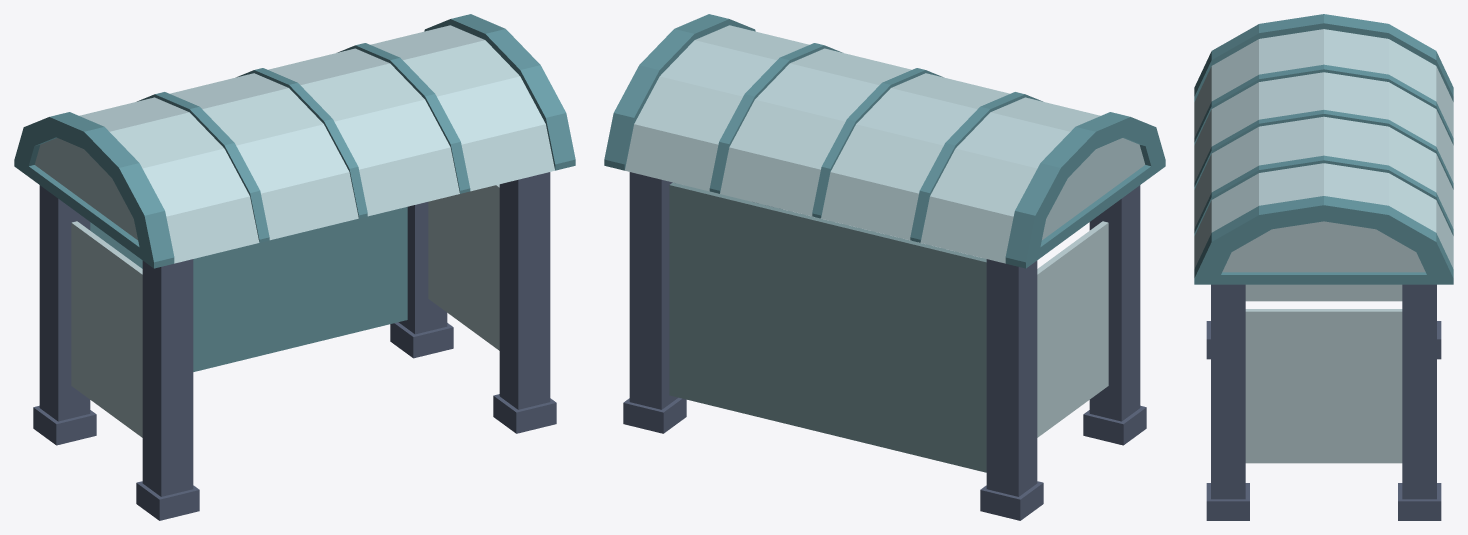
File: Bus_Stop.fbx
3 views of the same model, side by side, from view 1: azimuth 30°, elevation 25°; view 2: azimuth 150°, elevation 25°; view 3: azimuth 270°, elevation 25° (orthographic). The views are drawn at different scales.
Visible parts, largest first — view 1: Plane.001; view 2: Plane.001; view 3: Plane.001.
Part boxes in pixels (x1,y1,x2,y2): Plane.001: [14, 14, 575, 520]; Plane.001: [604, 14, 1165, 520]; Plane.001: [1194, 14, 1453, 520].
Size of the model in its own units: 7.09 by 5.56 by 4.07.
